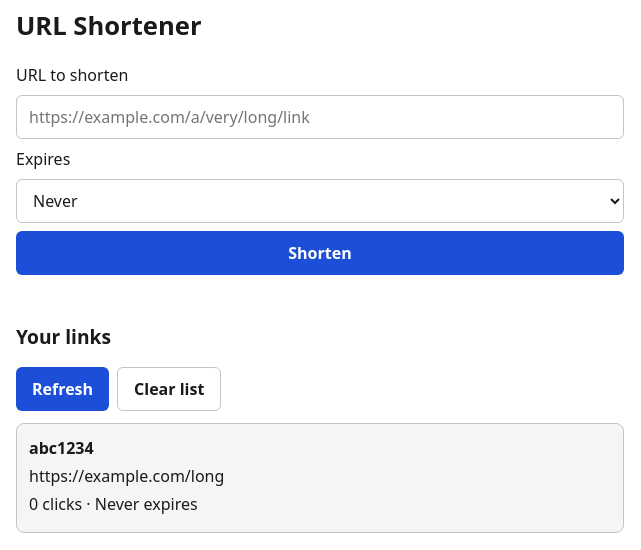
Scenario: App › clear list empties only the local list
Click the button "Clear list" at {"x": 169, "y": 389}, box [117,367,221,411]
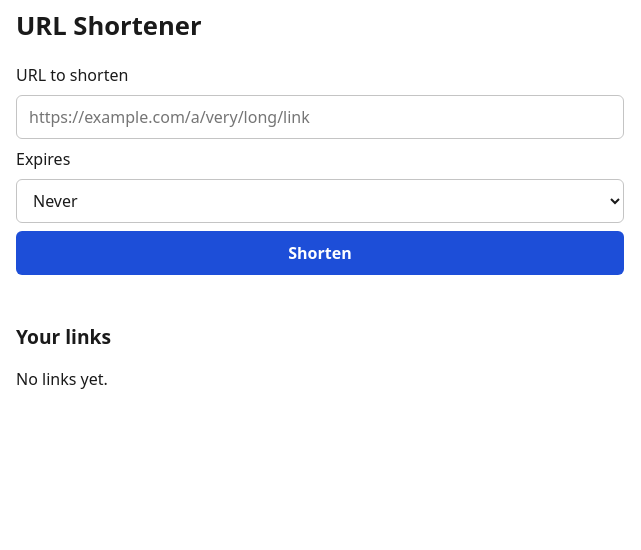
Check: the text "No links yet." is shown, box [16,368,108,390]
